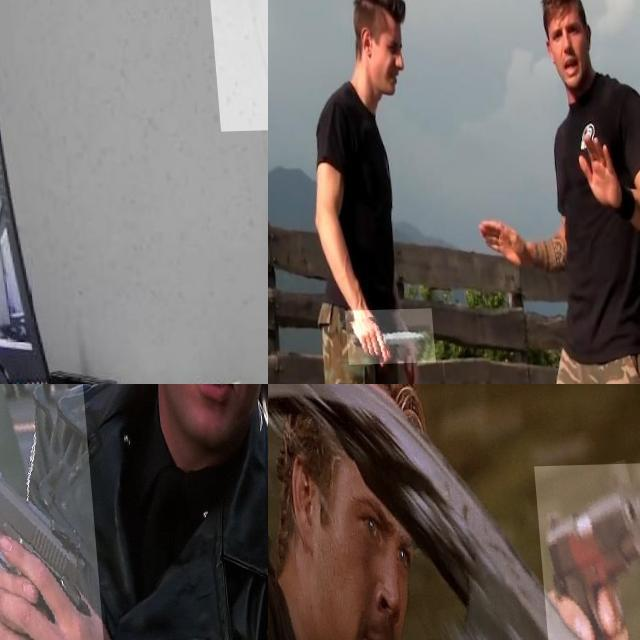-: (338, 310, 428, 366)
gun-knife-thesis - v11 Yolov5 augmented: (0, 384, 102, 640), (528, 465, 640, 640)
